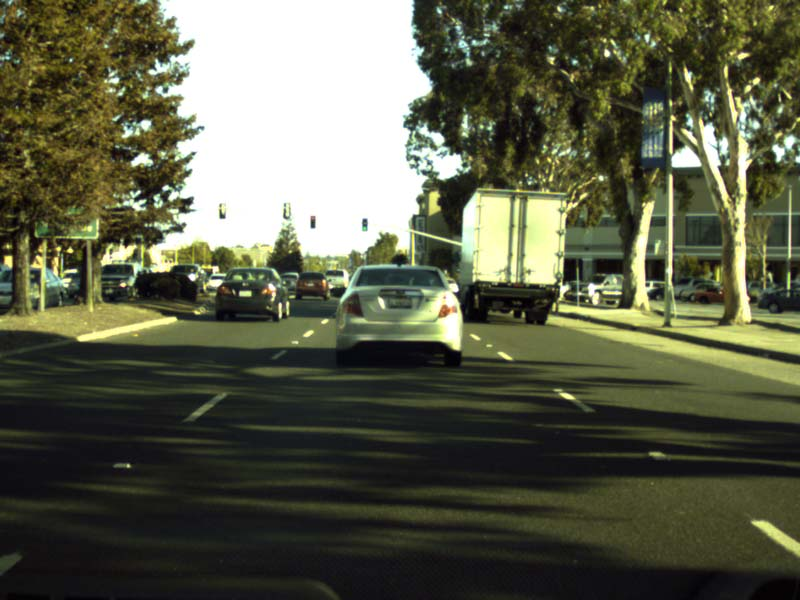Green: (361, 217, 367, 231)
Red: (309, 214, 316, 229)
